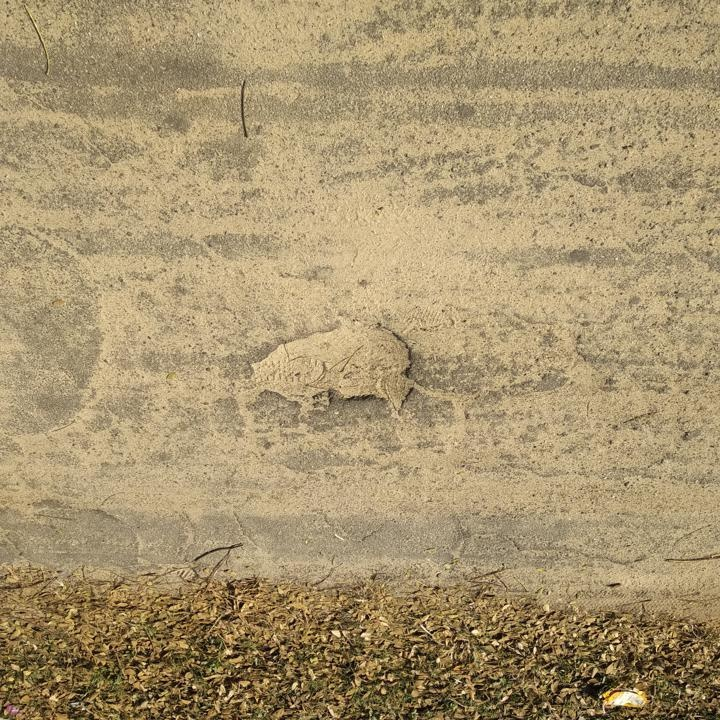pothole: (244, 324, 422, 422)
